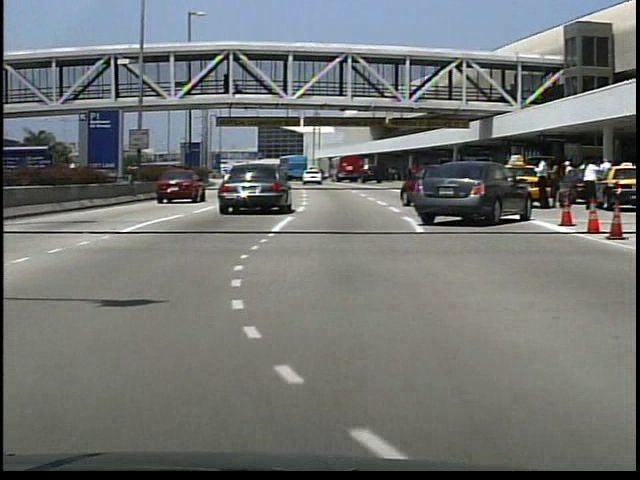person: (578, 159, 603, 211), (531, 154, 552, 214), (559, 159, 578, 209), (220, 74, 232, 98)
